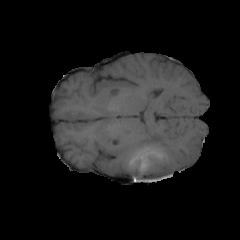glioma: (114, 134, 175, 182)
